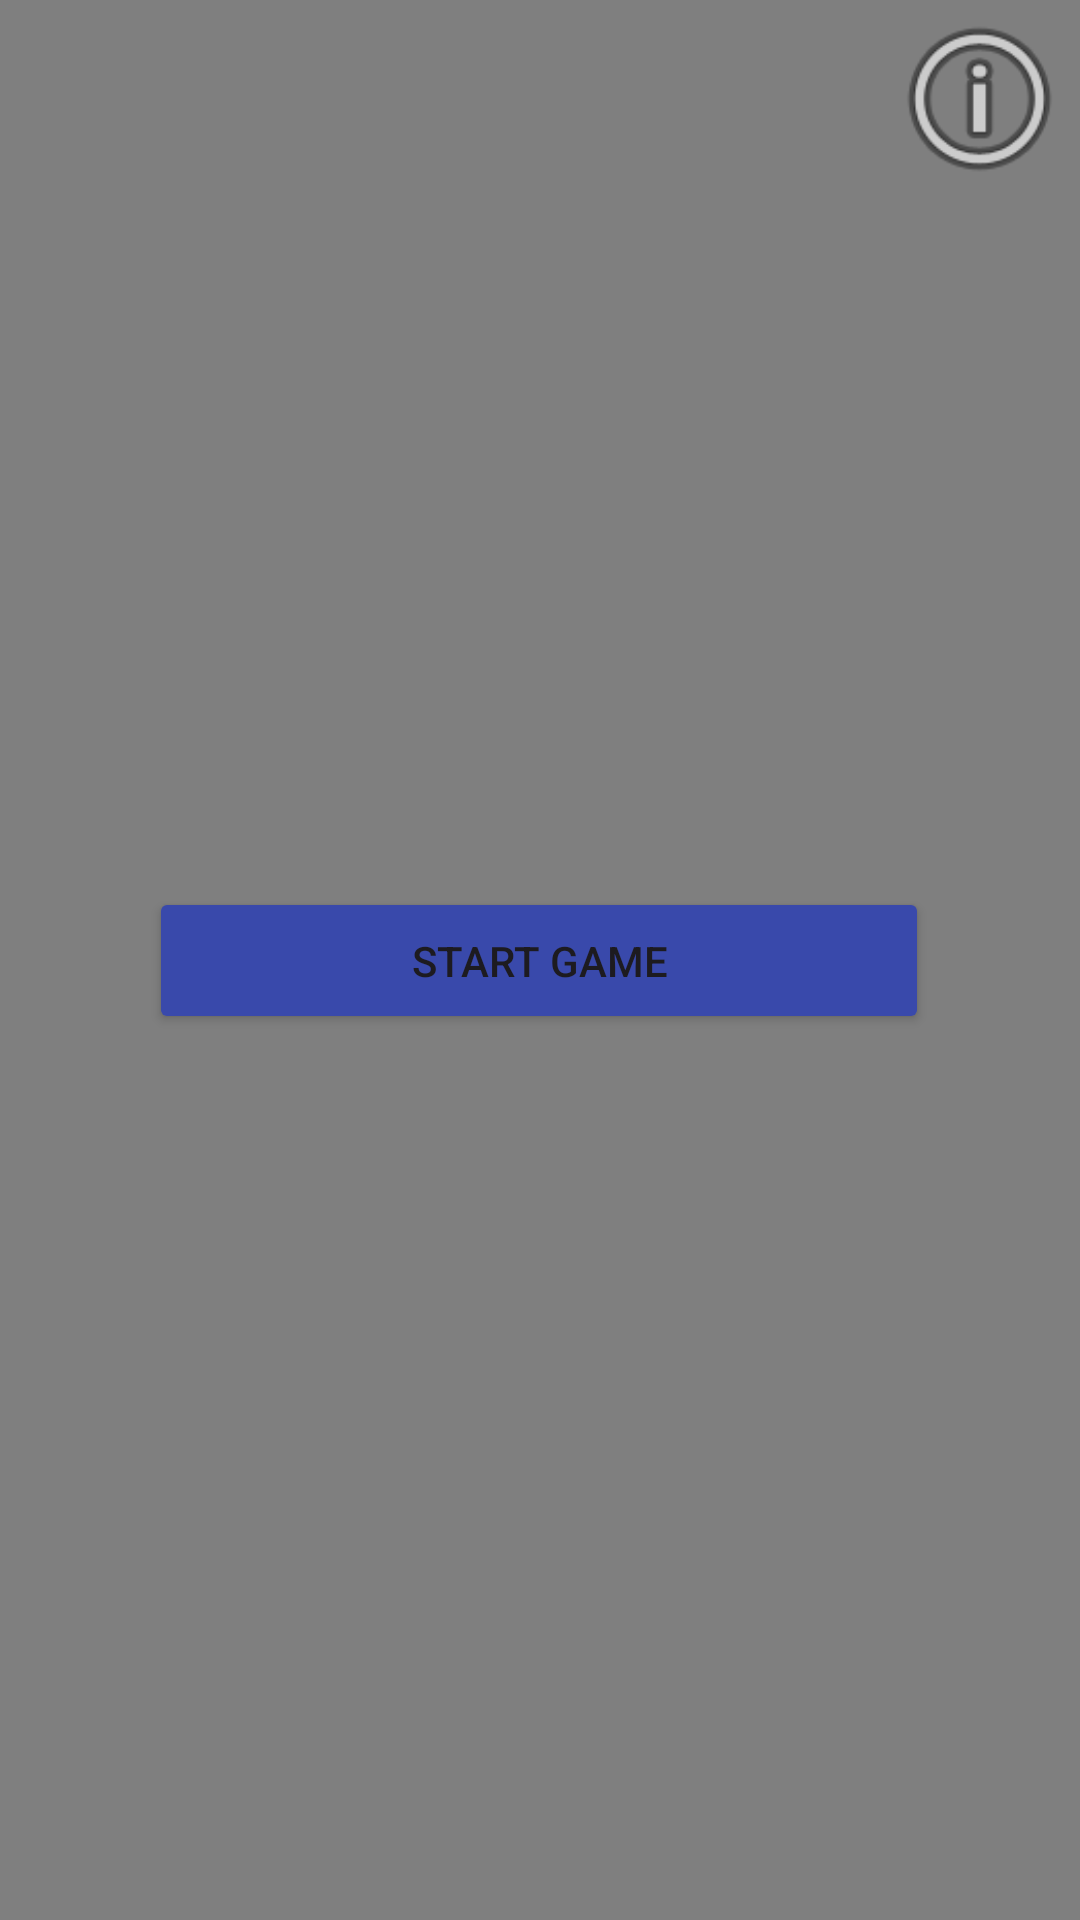

Where to tap for icons on this 1080px×1920px app screen, as point (x, y):
info details: point (979, 99)
